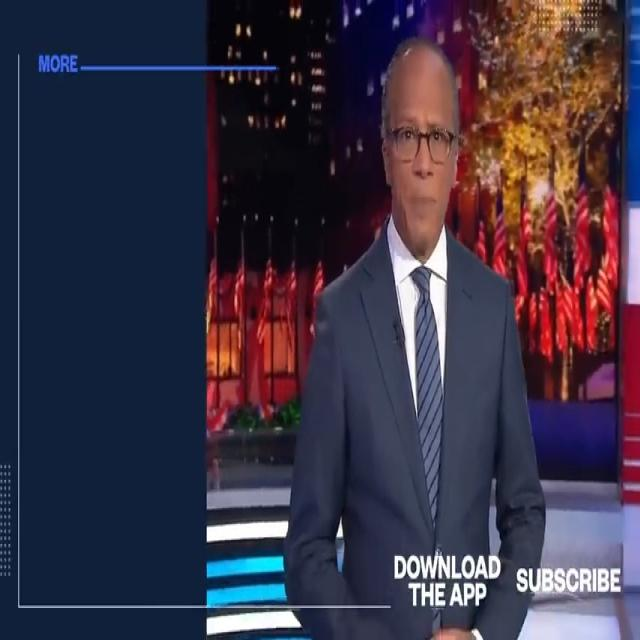non-fight: (272, 34, 548, 640)
